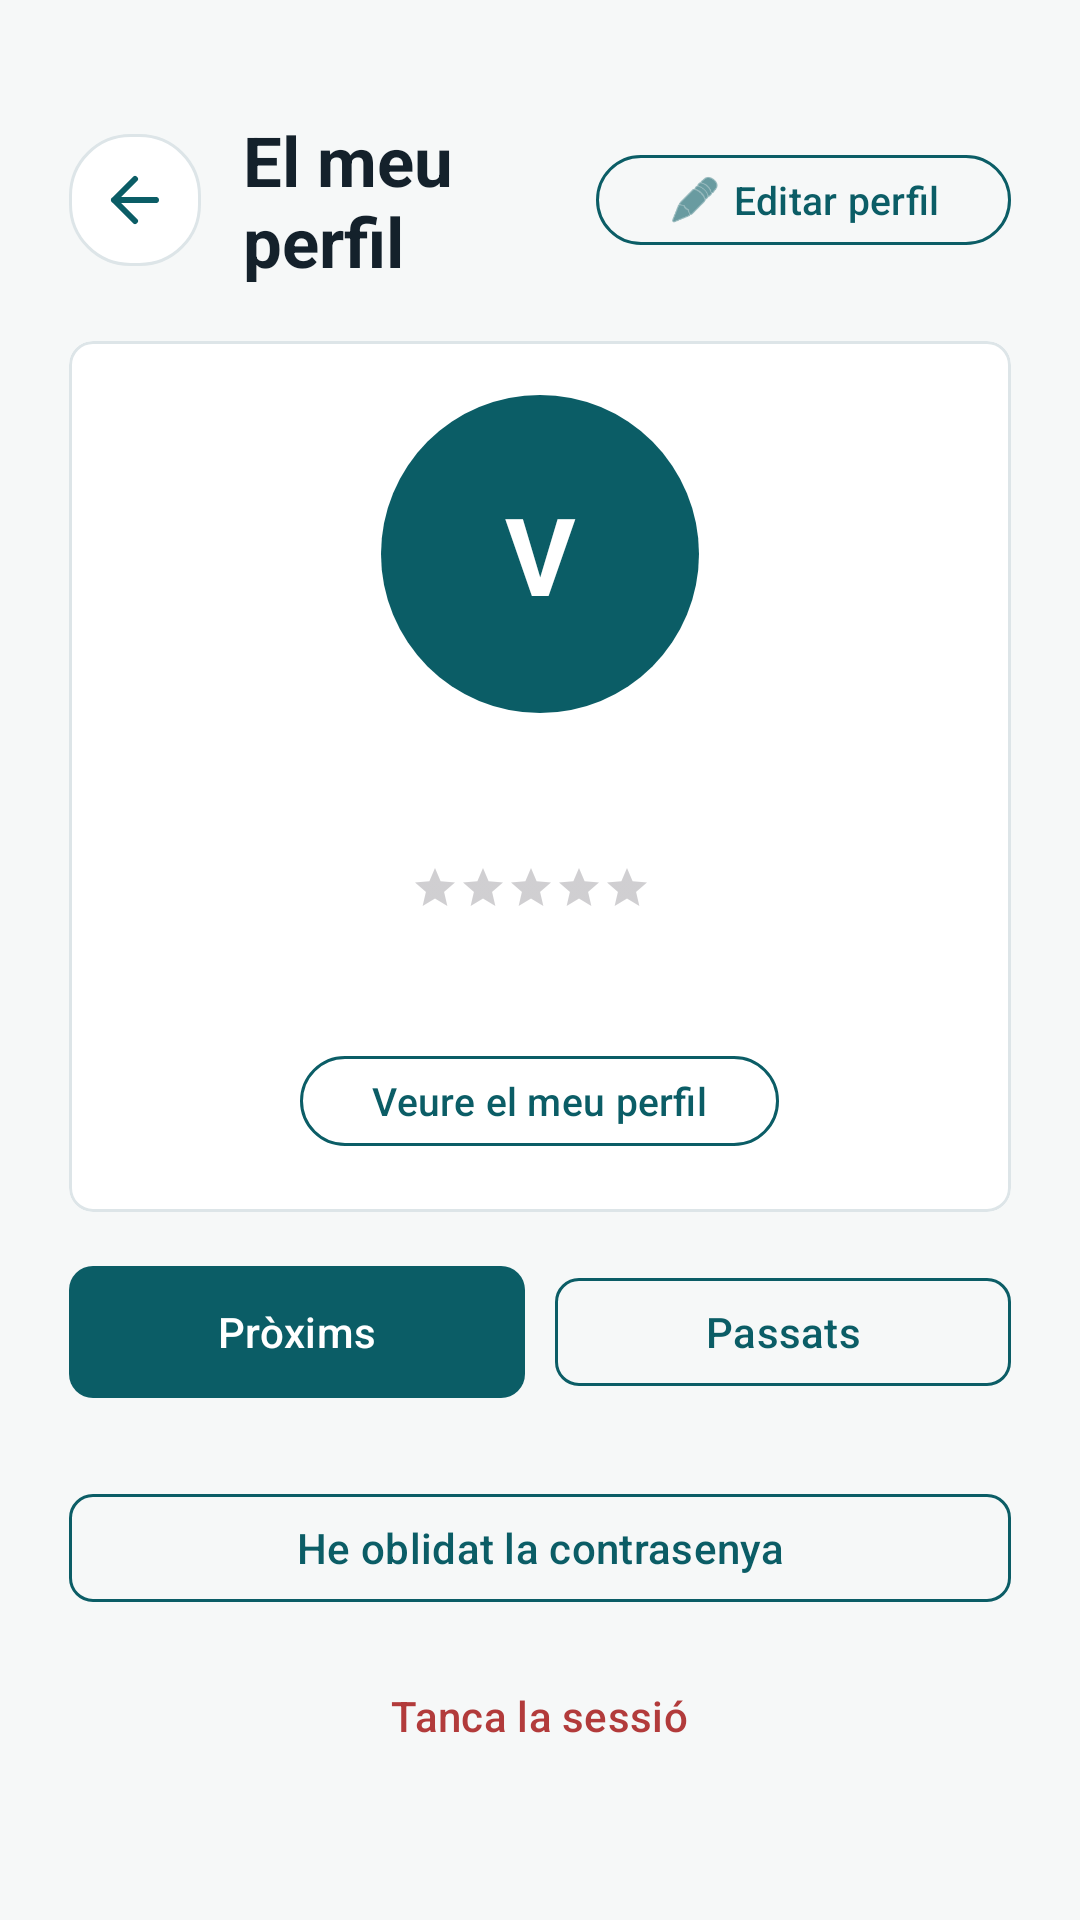

Icon bounding boxes for this 1080 x 1920 phone screenshot, format box=[x1, y1, x2, y2]:
Torna enrere: box=[69, 134, 201, 266]
